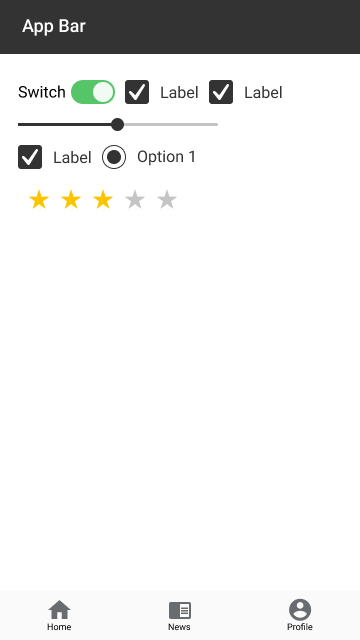checkBox: (16, 142, 95, 171), (124, 78, 201, 106), (207, 78, 284, 105)
navigationButton: (1, 591, 360, 639)
radioButton: (102, 144, 197, 171)
ratingBar: (28, 187, 180, 214)
slider1: (16, 117, 220, 132)
switch: (15, 79, 116, 105)
toolbar: (1, 1, 360, 56)
